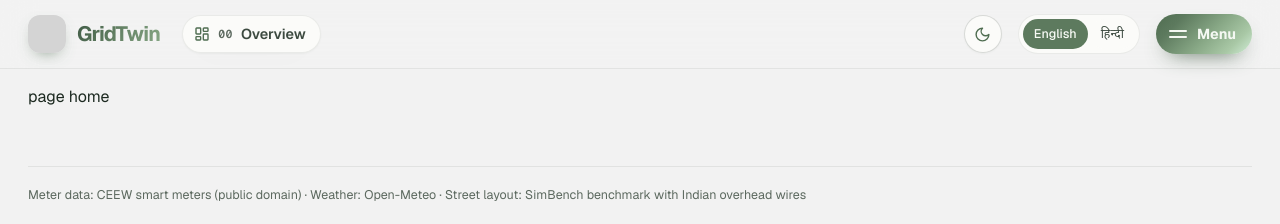
Shell › switching language changes the tab labels
Click the button "हिन्दी" at (1112,34), box left=1090, top=20, right=1135, bottom=49
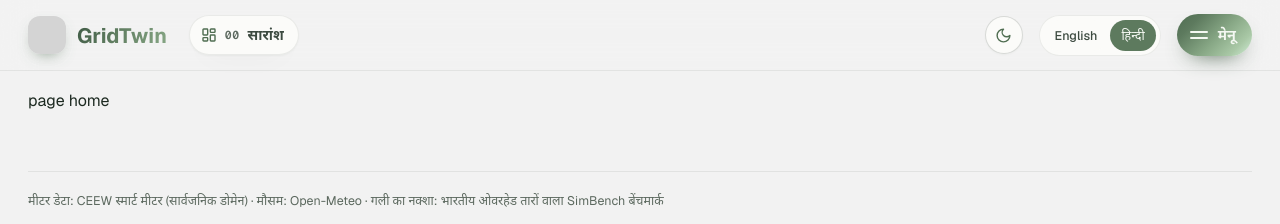
Expected: the button "Overview" is gone
